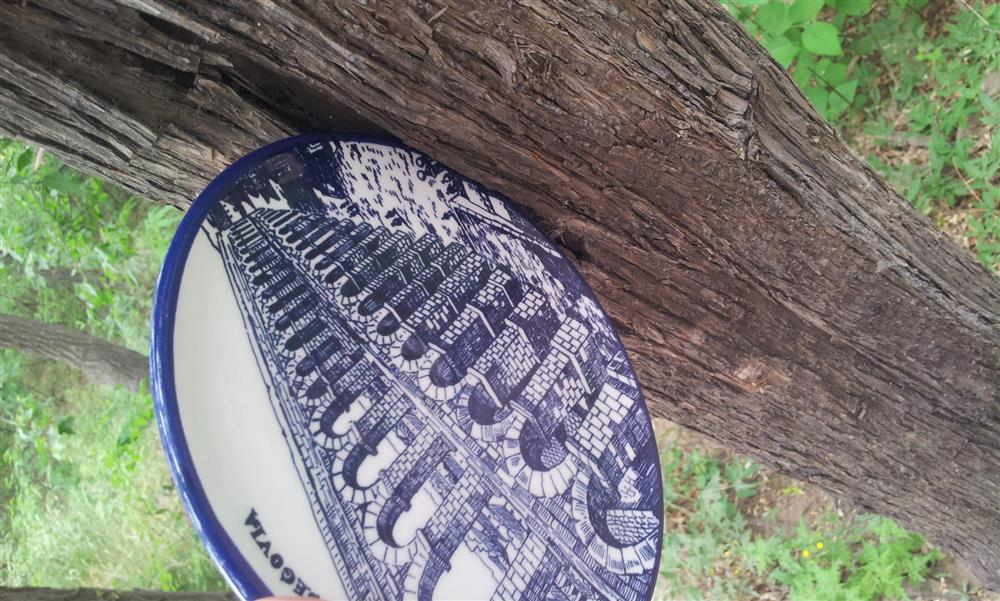plate: (144, 126, 681, 595)
